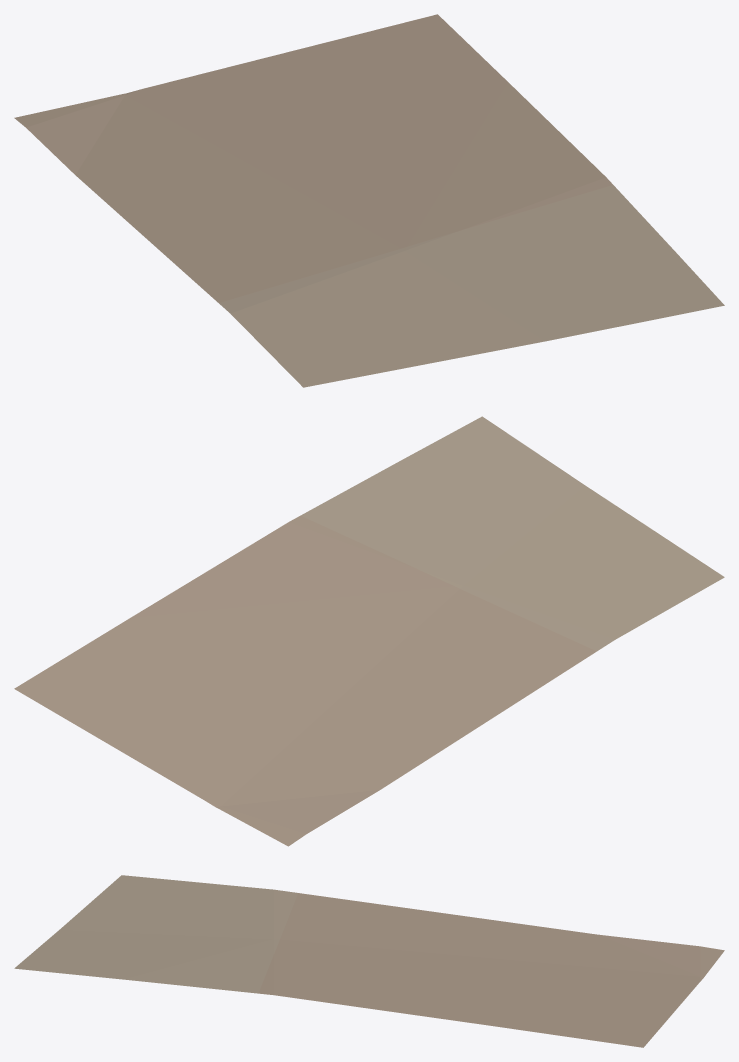
File: farm_-4_4_soil.glb
The picture shows the model from 3 angles, top to bottom: view 1: azimuth 30°, elevation 25°; view 2: azimuth 150°, elevation 25°; view 3: azimuth 270°, elevation 25°; orthographic projection. The views are drawn at different scales.
Parts seen in each view (by area): view 1: geometry_0; view 2: geometry_0; view 3: geometry_0.
Part boxes in pixels (box(x1,y1,x2,y2)): geometry_0: box(14, 14, 724, 387); geometry_0: box(14, 416, 724, 846); geometry_0: box(14, 875, 724, 1047).
Bounding box in the file's own units: 78.69 × 14.95 × 133.
